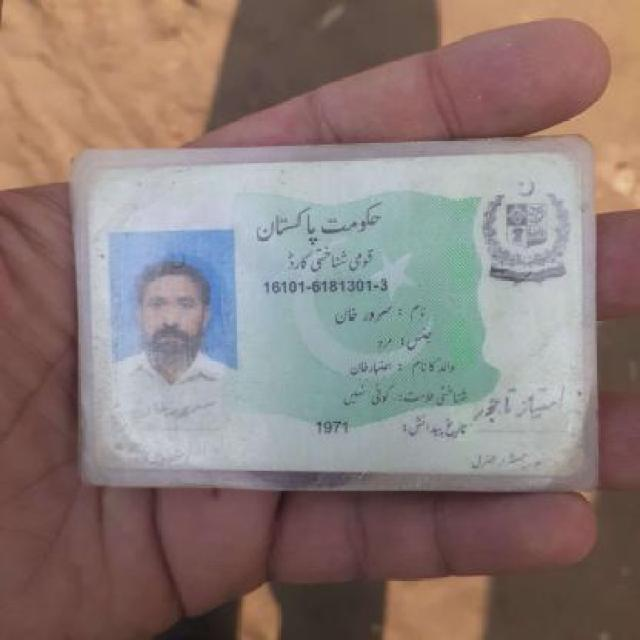Front: (71, 155, 597, 494)
